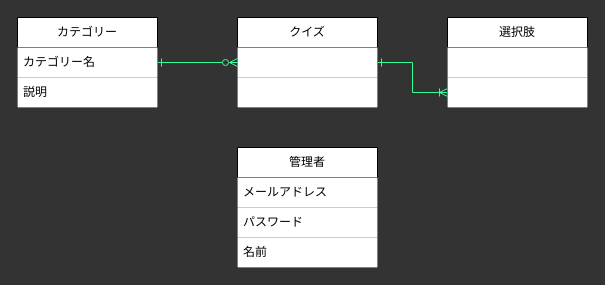
This 605x285 diagram has some shape labels left out. The shapes that lost their labels are listed below. From the top down, each one's centre as x and y in pixels, then its label:
point 307,62: 問題文
point 517,62: 説明文
point 307,92: 解説
point 517,92: 正解か不正解か
